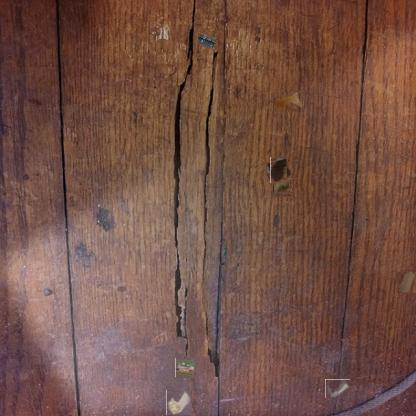dirty: (166, 390, 192, 415), (325, 379, 350, 398), (396, 271, 416, 293), (176, 357, 196, 378), (273, 178, 293, 198), (195, 32, 217, 50), (221, 247, 226, 268)
liquid: (274, 90, 304, 112), (268, 160, 290, 181)
